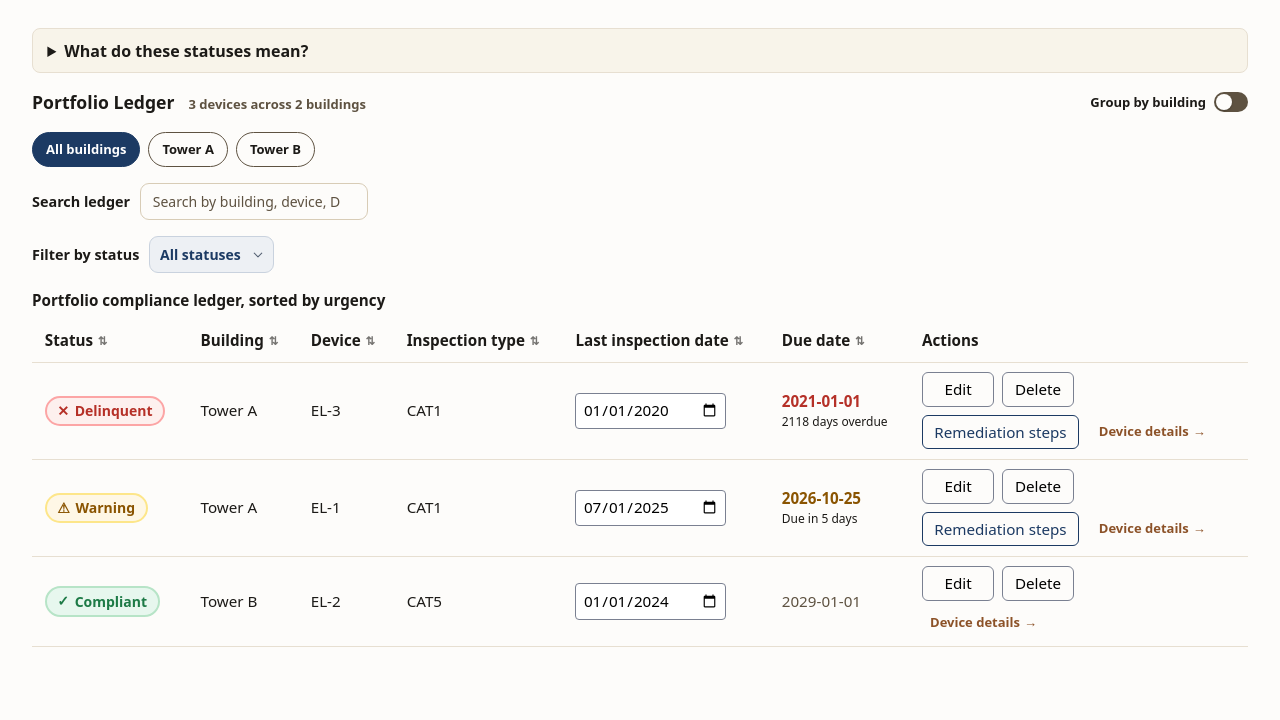
Scenario: LedgerPage › shows the unfiltered ledger again when switching back to the 'All buildings' chip
The image size is (1280, 720).
Click the button "Tower B": point(276, 149) [236,132,315,167]
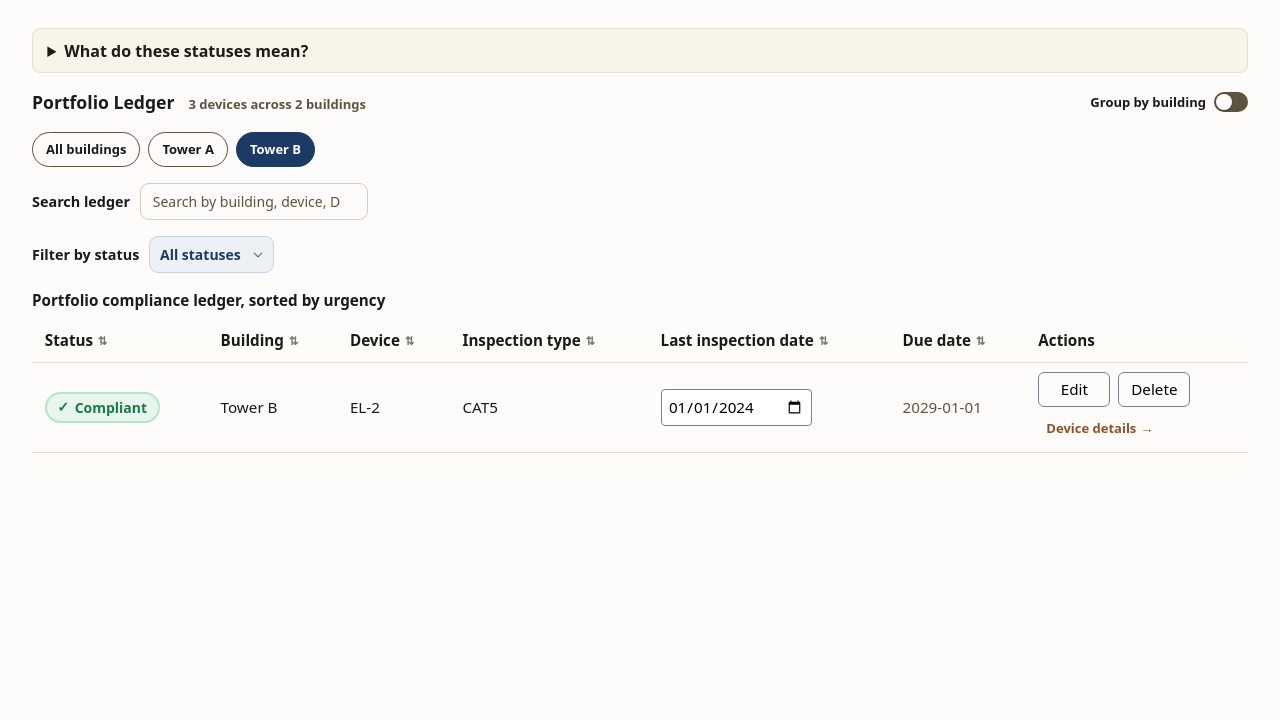
Expected: the text "EL-1" is gone
Click the button "All buildings": point(86, 149) [32,132,140,167]
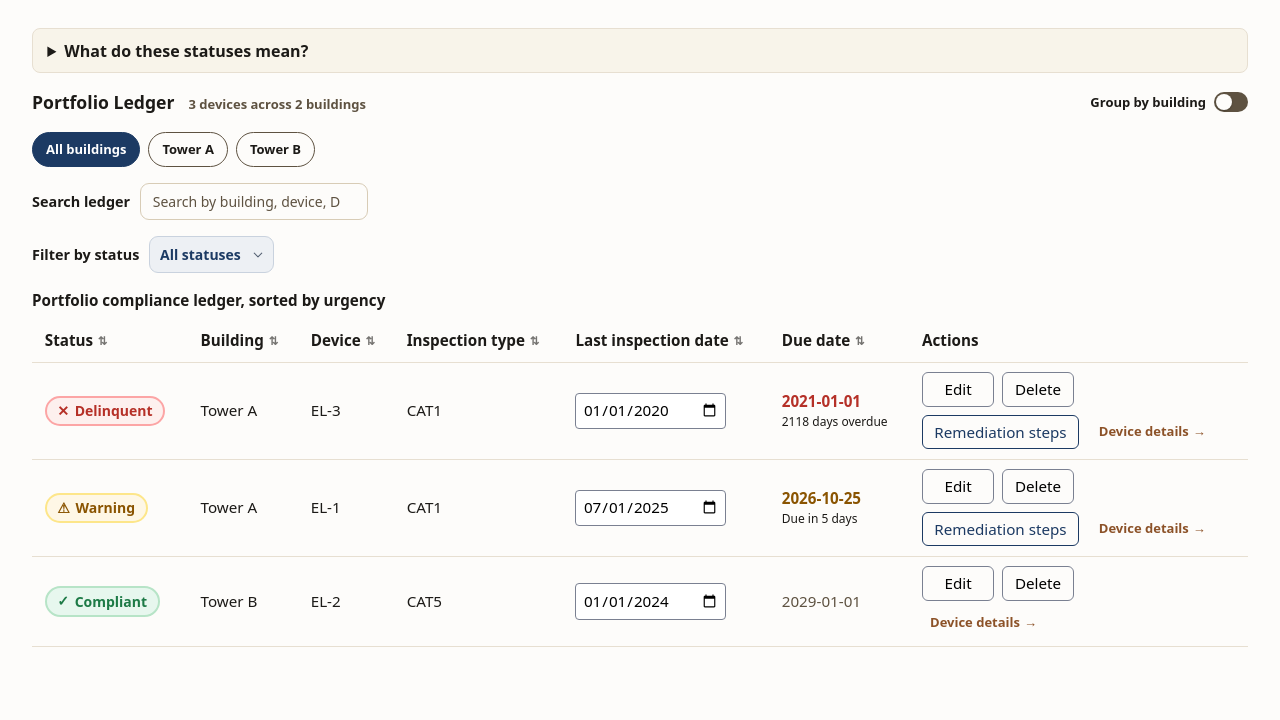
Expected: the text "EL-2" is shown, [298,556,394,646]
Expected: the text "EL-1" is shown, [298,459,394,556]
Expected: the text "EL-3" is shown, [298,362,394,459]
